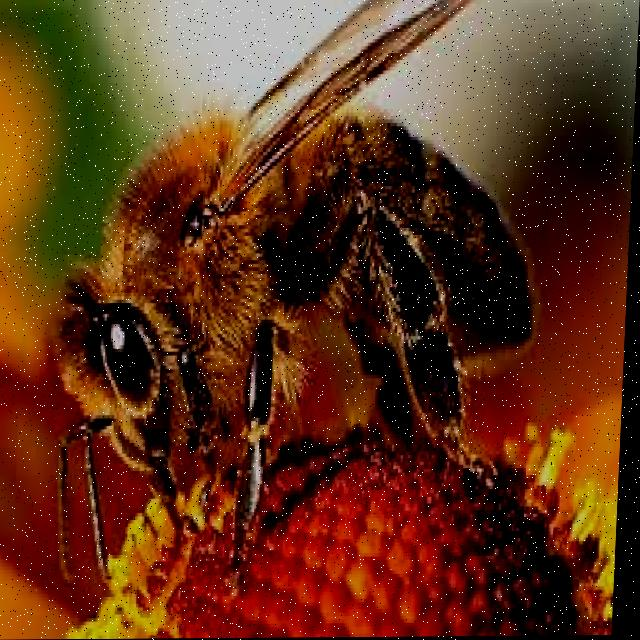Apis-mellifera-scutellata: (39, 0, 549, 618)
